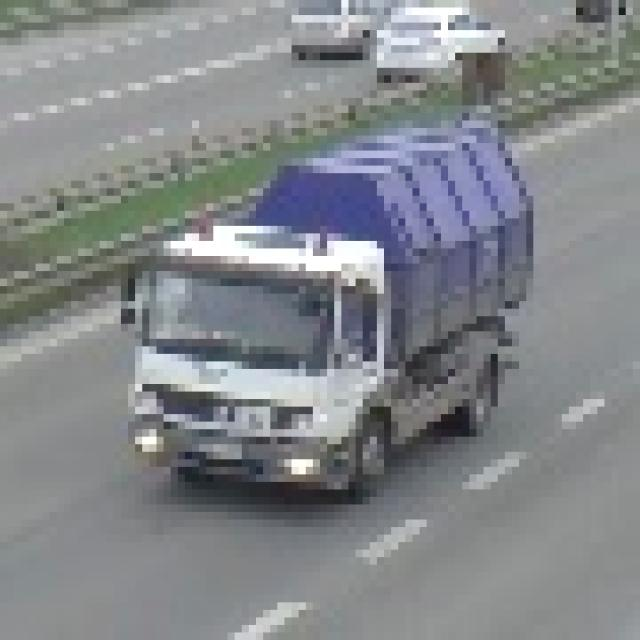truck: (122, 122, 534, 491)
